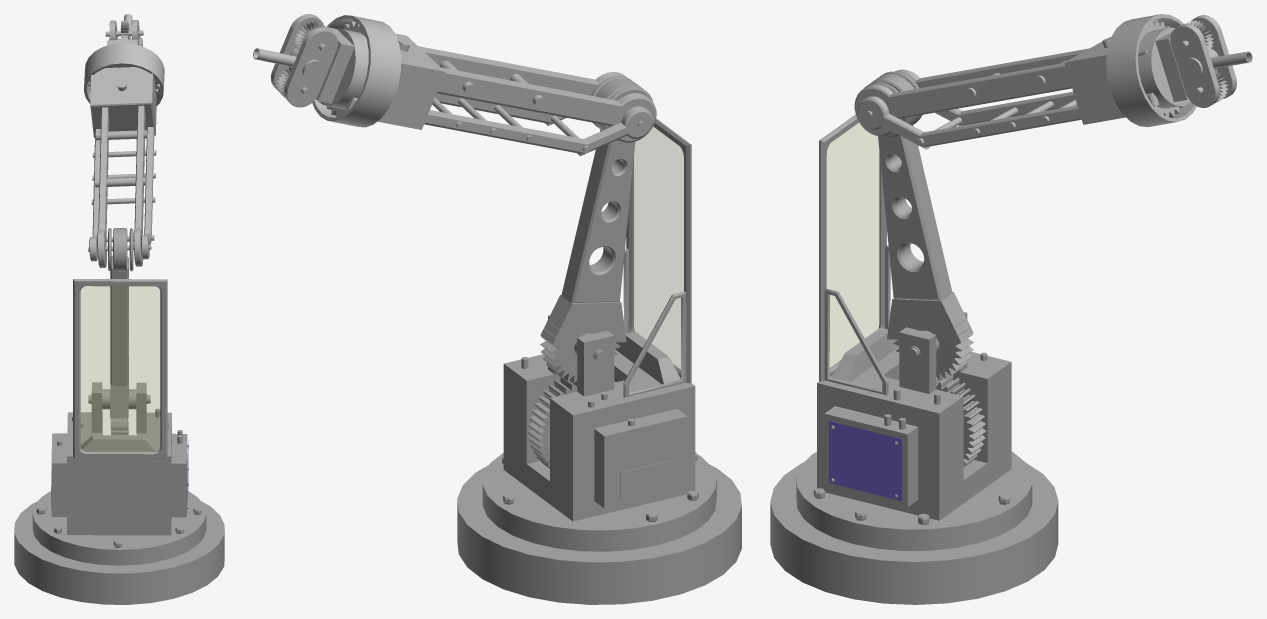
Rendered from ControlRobot_v4.fbx.
The picture shows the model from 3 angles, left to right: view 1: azimuth 30°, elevation 25°; view 2: azimuth 150°, elevation 25°; view 3: azimuth 270°, elevation 25°; orthographic projection. The views are drawn at different scales.
Visible parts, largest first — view 1: Base_Mechanics, BackGlass, EntireRobot, BottomDisc, polySurface71, LowerArm, polySurface57, polySurface41, polySurface68, polySurface51, LowerArmGear, OBJ:Circle03 (+5 smaller); view 2: Base_Mechanics, EntireRobot, BottomDisc, LowerArm, BackGlass, polySurface41, polySurface57, polySurface71, polySurface68, polySurface38, polySurface44, LowerGear (+9 smaller); view 3: Base_Mechanics, EntireRobot, BottomDisc, BackGlass, LowerArm, polySurface68, polySurface57, polySurface71, polySurface51, polySurface44, LowerGear, polySurface41 (+7 smaller).
Part boxes in pixels (<box>): Base_Mechanics: <box>51,279,188,535</box>; BackGlass: <box>80,286,159,451</box>; EntireRobot: <box>14,501,224,604</box>; BottomDisc: <box>32,490,206,565</box>; polySurface71: <box>90,67,156,137</box>; LowerArm: <box>110,255,128,418</box>; polySurface57: <box>84,43,164,105</box>; polySurface41: <box>98,107,109,255</box>; polySurface68: <box>134,105,145,234</box>; polySurface51: <box>144,127,154,235</box>; LowerArmGear: <box>88,389,150,429</box>; OBJ:Circle03: <box>113,228,127,271</box>; Base_Mechanics: <box>503,118,695,521</box>; EntireRobot: <box>457,464,741,604</box>; BottomDisc: <box>482,452,716,551</box>; LowerArm: <box>540,130,635,344</box>; BackGlass: <box>633,127,683,369</box>; polySurface41: <box>437,67,629,125</box>; polySurface57: <box>312,15,401,127</box>; polySurface71: <box>377,33,445,129</box>; polySurface68: <box>418,46,598,95</box>; polySurface38: <box>345,97,587,153</box>; polySurface44: <box>318,28,368,109</box>; LowerGear: <box>528,377,615,468</box>; Base_Mechanics: <box>817,114,1011,520</box>; EntireRobot: <box>770,463,1058,604</box>; BottomDisc: <box>796,451,1032,550</box>; BackGlass: <box>827,123,879,368</box>; LowerArm: <box>878,125,973,341</box>; polySurface68: <box>887,49,1147,118</box>; polySurface57: <box>1106,14,1196,126</box>; polySurface71: <box>1064,37,1125,124</box>; polySurface51: <box>920,93,1159,146</box>; polySurface44: <box>1138,27,1190,108</box>; LowerGear: <box>898,375,986,467</box>; polySurface41: <box>915,48,1089,88</box>.
Bounding box in the file's own units: 1.5 × 2.78 × 2.04.
